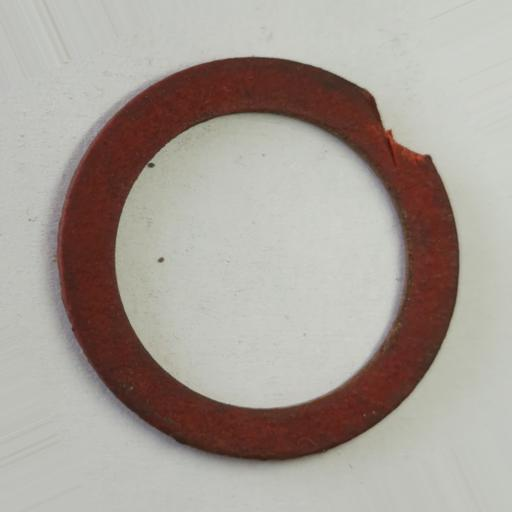defect: (369, 93, 433, 163)
